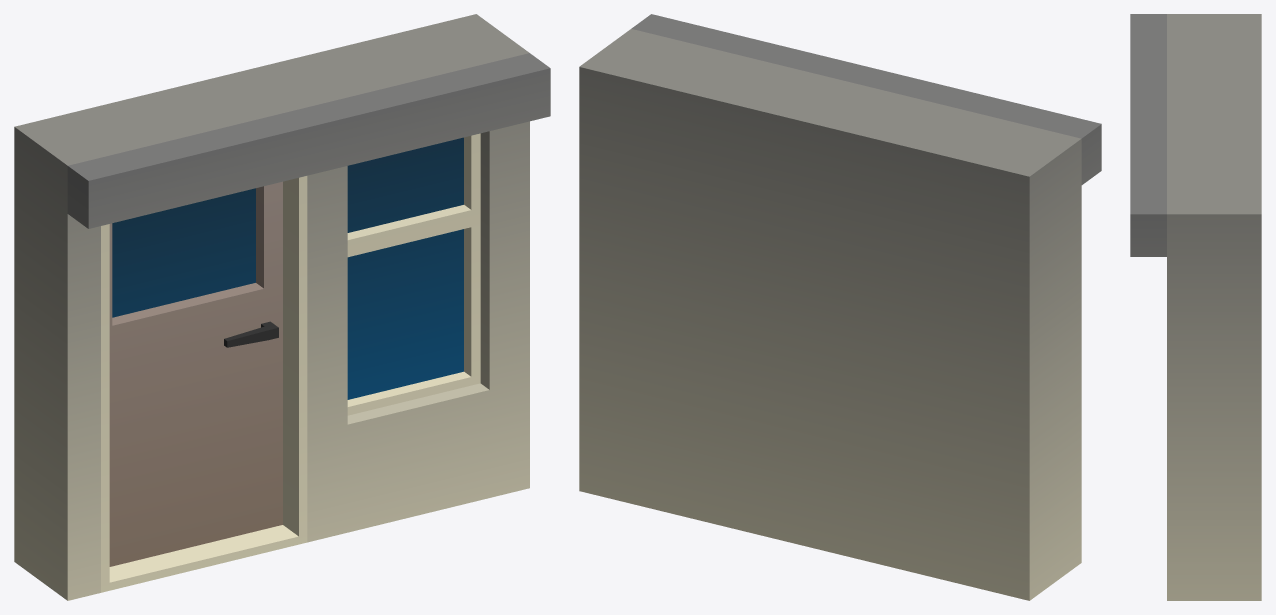
Rendered from B02_porte_1.fbx.
The picture shows the model from 3 angles, left to right: view 1: azimuth 30°, elevation 25°; view 2: azimuth 150°, elevation 25°; view 3: azimuth 270°, elevation 25°; orthographic projection. The views are drawn at different scales.
Parts seen in each view (by area): view 1: B02_porte_1; view 2: B02_porte_1; view 3: B02_porte_1.
Boxes of the visible parts, x1,y1,x2,y2 form: B02_porte_1: (14,14,550,600); B02_porte_1: (579,14,1101,600); B02_porte_1: (1130,14,1261,600).
Bounding box in the file's own units: 375 × 337 × 104.
